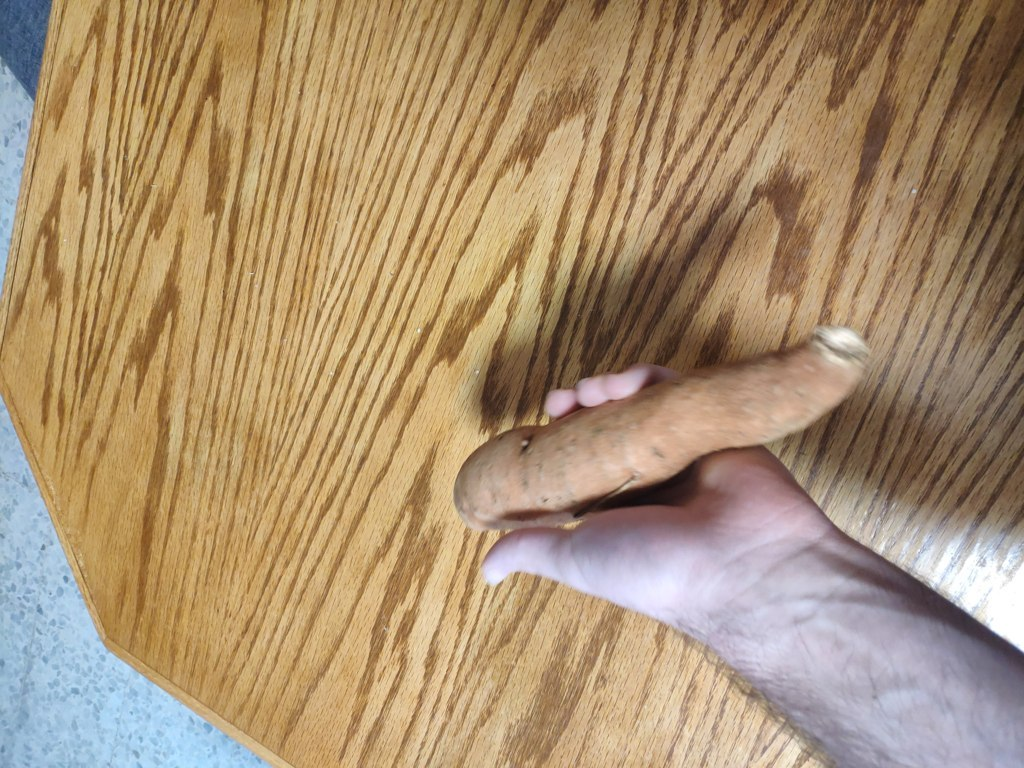Sweet Potato: (451, 327, 877, 527)
